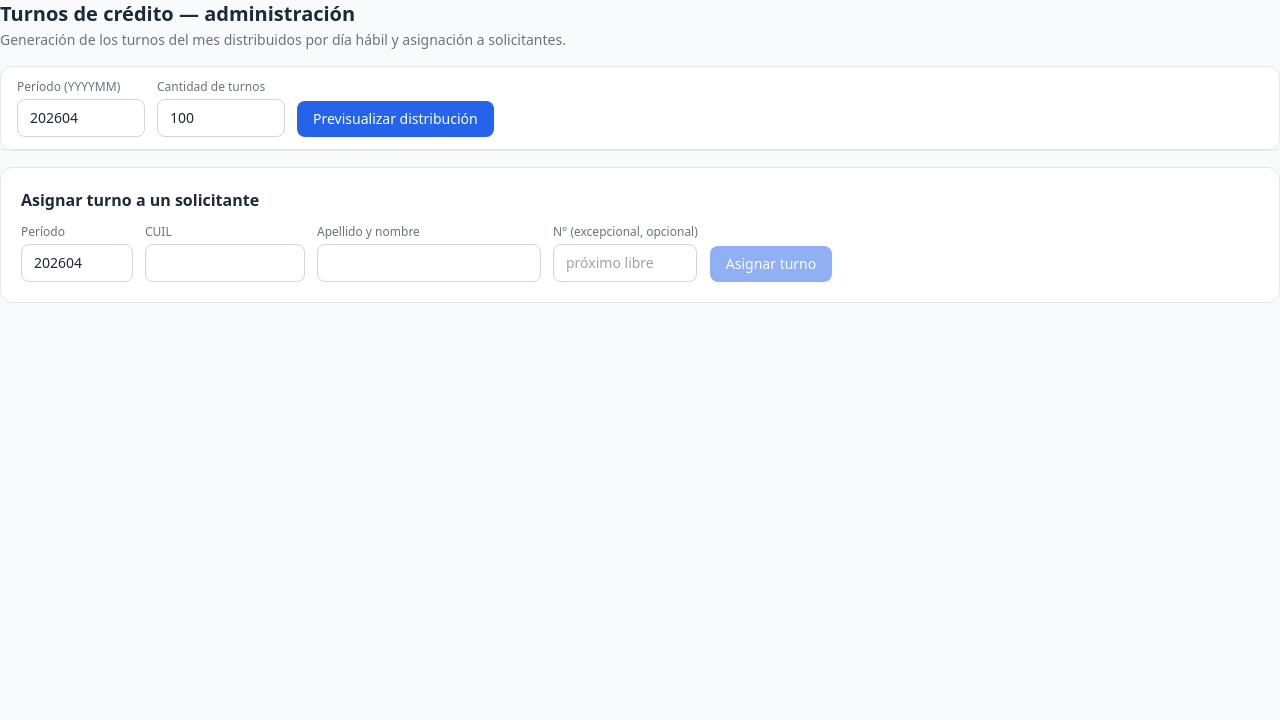
Test: Turnos de crédito · generación › generar pide confirmación y avisa cuántos turnos creó
The width and height of the screenshot is (1280, 720).
Click the button "Previsualizar distribución".
click(395, 119)  # box [297, 101, 494, 137]
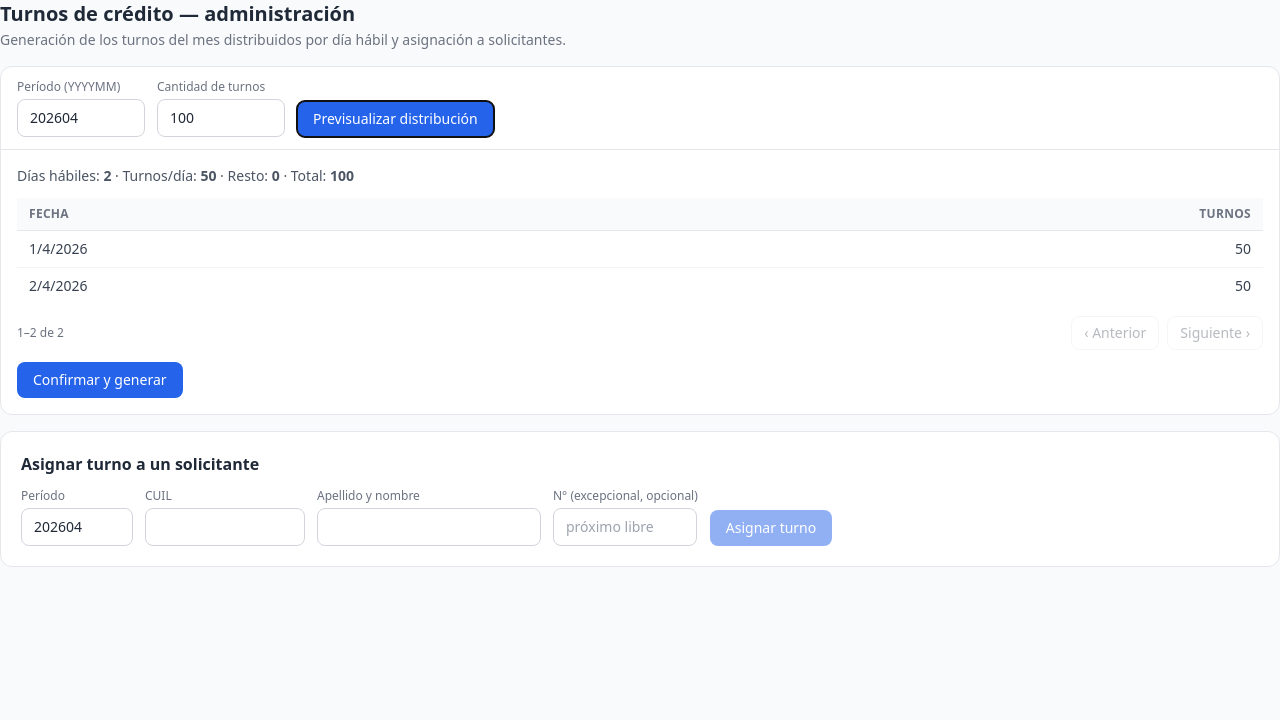
Click the button "Confirmar y generar".
click(100, 380)  # box [17, 362, 182, 398]
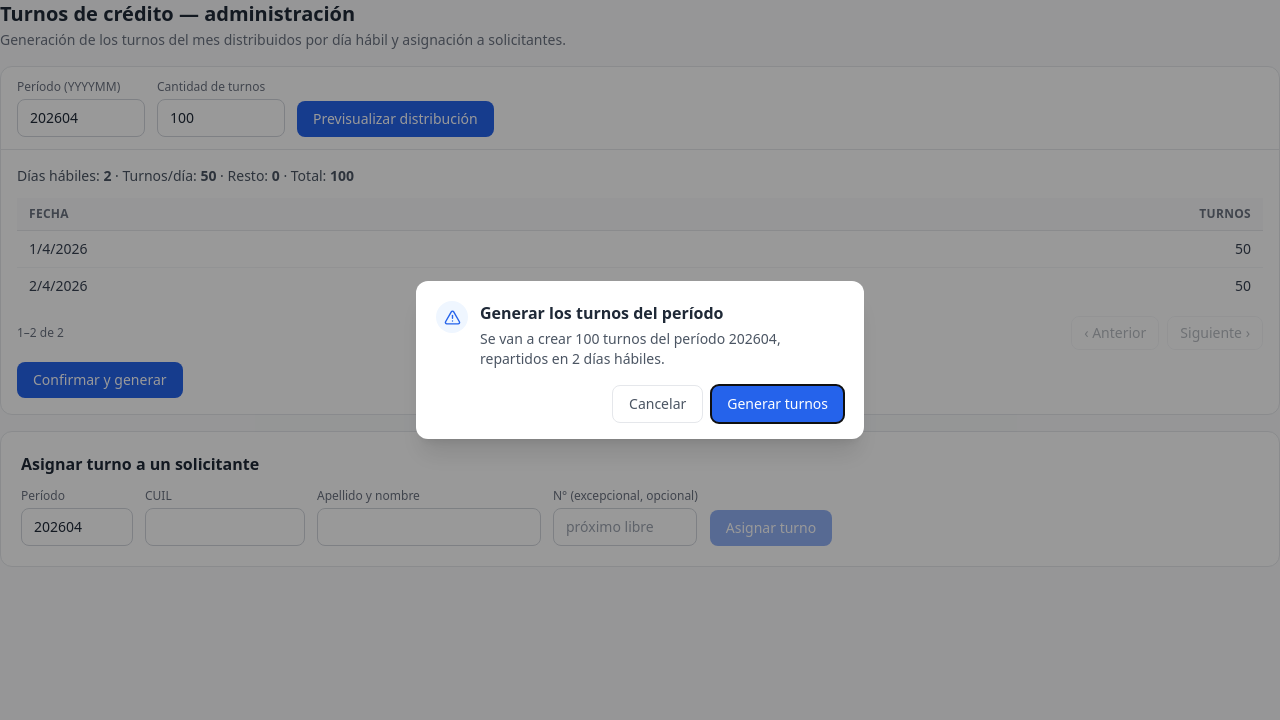
Result: the dialog is shown
Click the button "Generar turnos".
click(778, 404)  # box [711, 385, 844, 423]
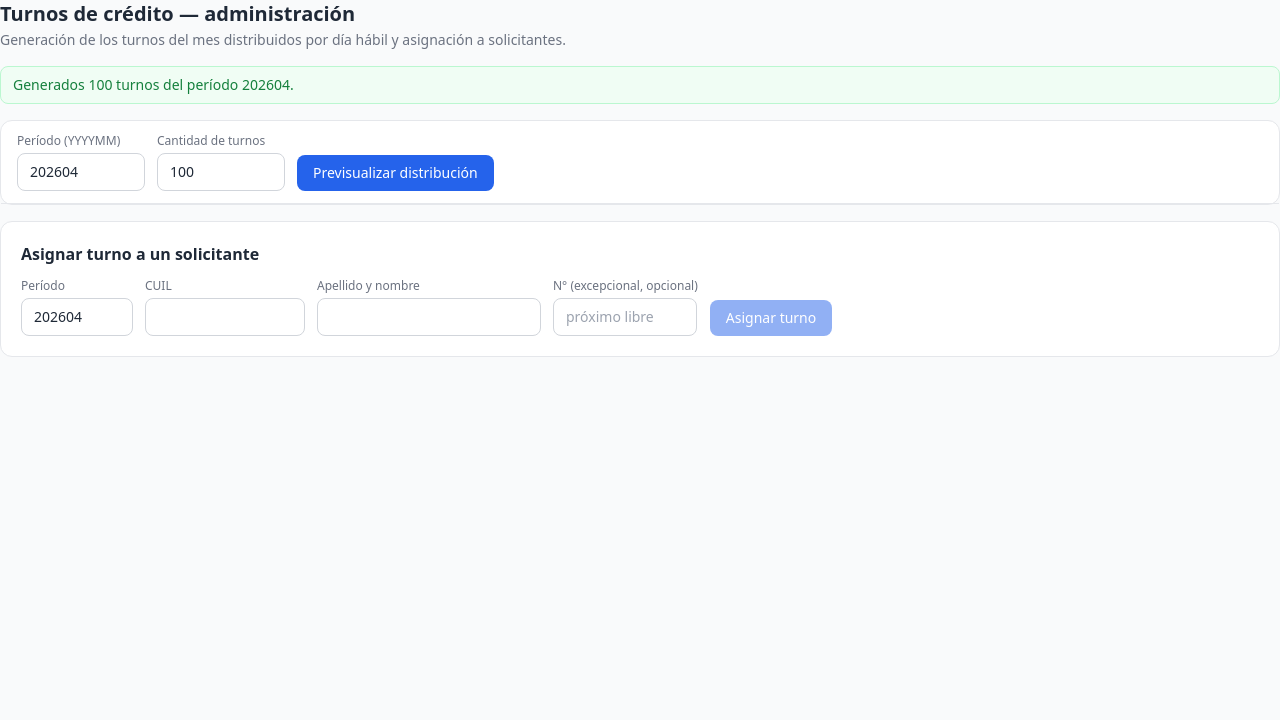
Result: the text "Generados 100 turnos del período 202604." is shown at [0, 66, 1279, 104]
